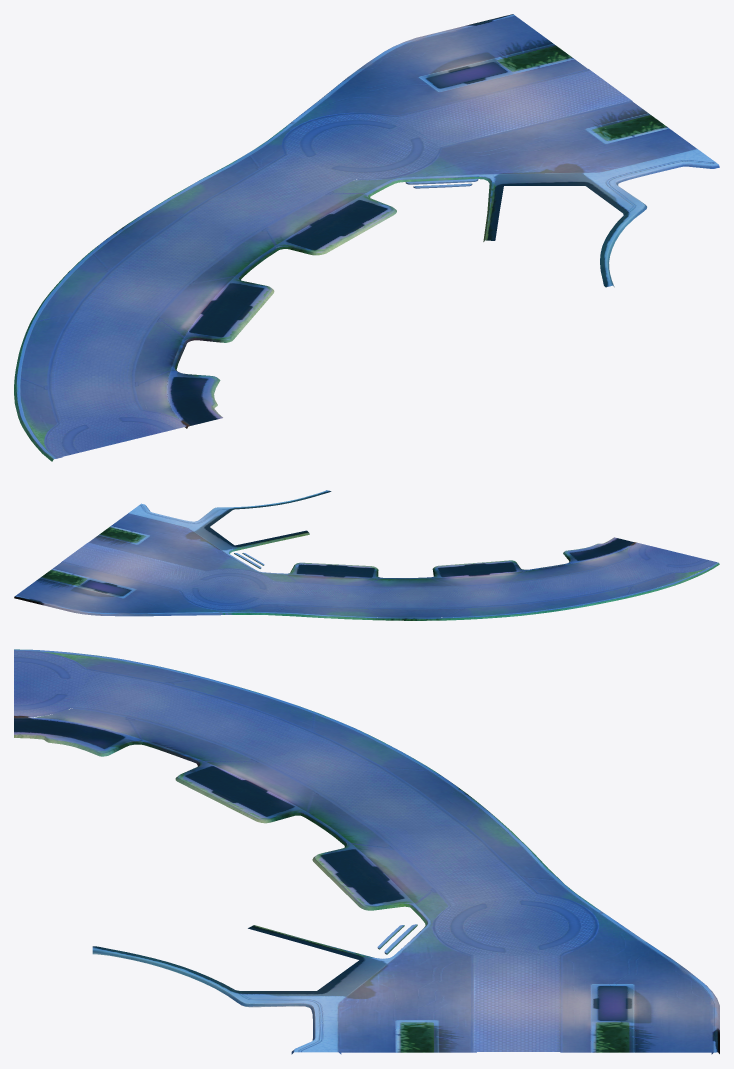
File: pref_sm_beach_techsmall_WSJ_001_bk_main_road01_lv2.fbx
The picture shows the model from 3 angles, top to bottom: view 1: azimuth 30°, elevation 25°; view 2: azimuth 150°, elevation 25°; view 3: azimuth 270°, elevation 25°; orthographic projection. The views are drawn at different scales.
Parts seen in each view (by area): view 1: pref_sm_beach_techsmall_WSJ_001_bk_main_road01_lv2; view 2: pref_sm_beach_techsmall_WSJ_001_bk_main_road01_lv2; view 3: pref_sm_beach_techsmall_WSJ_001_bk_main_road01_lv2.
Boxes of the visible parts, x1,y1,x2,y2 form: pref_sm_beach_techsmall_WSJ_001_bk_main_road01_lv2: (14, 14, 719, 461); pref_sm_beach_techsmall_WSJ_001_bk_main_road01_lv2: (14, 490, 719, 620); pref_sm_beach_techsmall_WSJ_001_bk_main_road01_lv2: (14, 649, 719, 1054).
Size of the model in its own units: 47.46 by 0.2133 by 35.07.
Materials: 1 (1 with a texture image).
